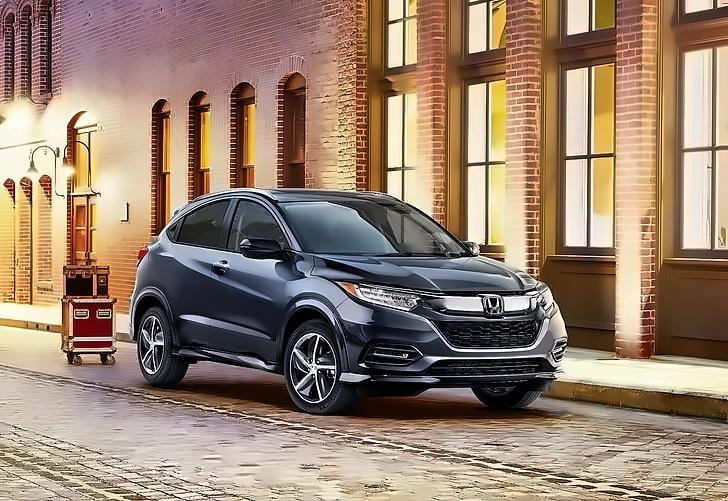Car hood: (308, 249, 549, 295)
Driver-s door - -F-R-: (198, 175, 289, 372)
Fender - -F-R-: (270, 250, 349, 366)
Fender - -R-R-: (131, 211, 180, 342)
Front bumper: (325, 298, 570, 392)
Headlight - -L-: (537, 283, 555, 315)
Headlight - -R-: (329, 278, 424, 314)
Passenger-s door - -R-R-: (157, 175, 237, 363)
Side bumper - -R-: (169, 328, 286, 379)
Side mirror - -R-: (238, 237, 292, 263)
